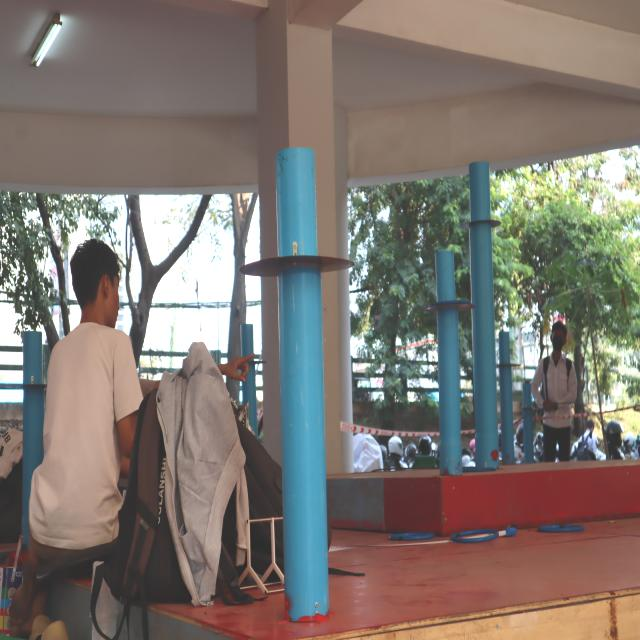pole: (233, 144, 363, 384), (420, 240, 476, 358), (454, 159, 510, 255), (494, 326, 524, 391)
